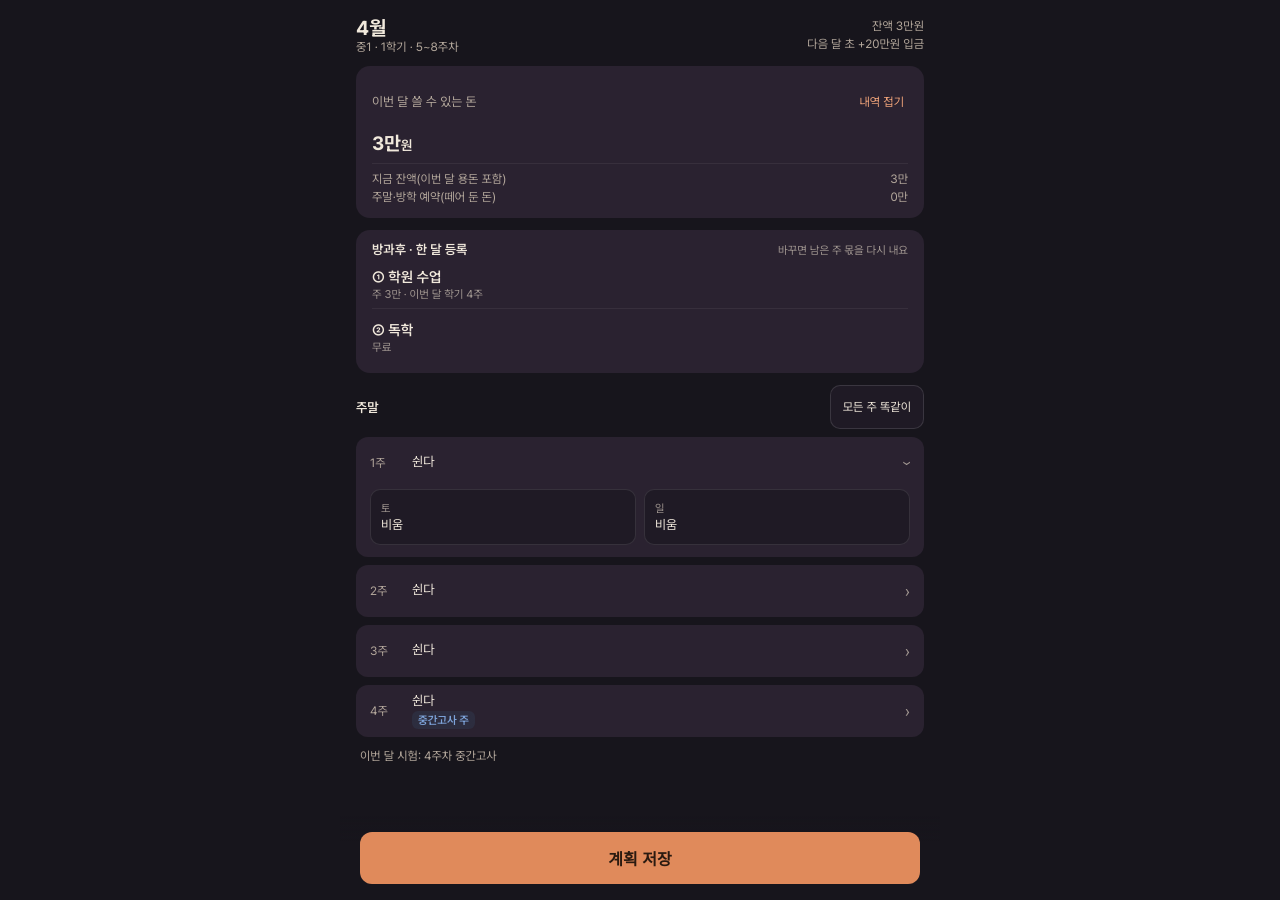
Test: 한 달 계획 화면 — 짜고, 예산이 움직이고, 시작하면 저장된다 › 계획이 잔액을 넘으면 시작을 막고 이유를 말한다
The image size is (1280, 900).
What coordinates should you click on to do the following:
click the button with test id "slot-5-0"
I would click on:
 (386, 508)
Its box is [370, 489, 636, 545].
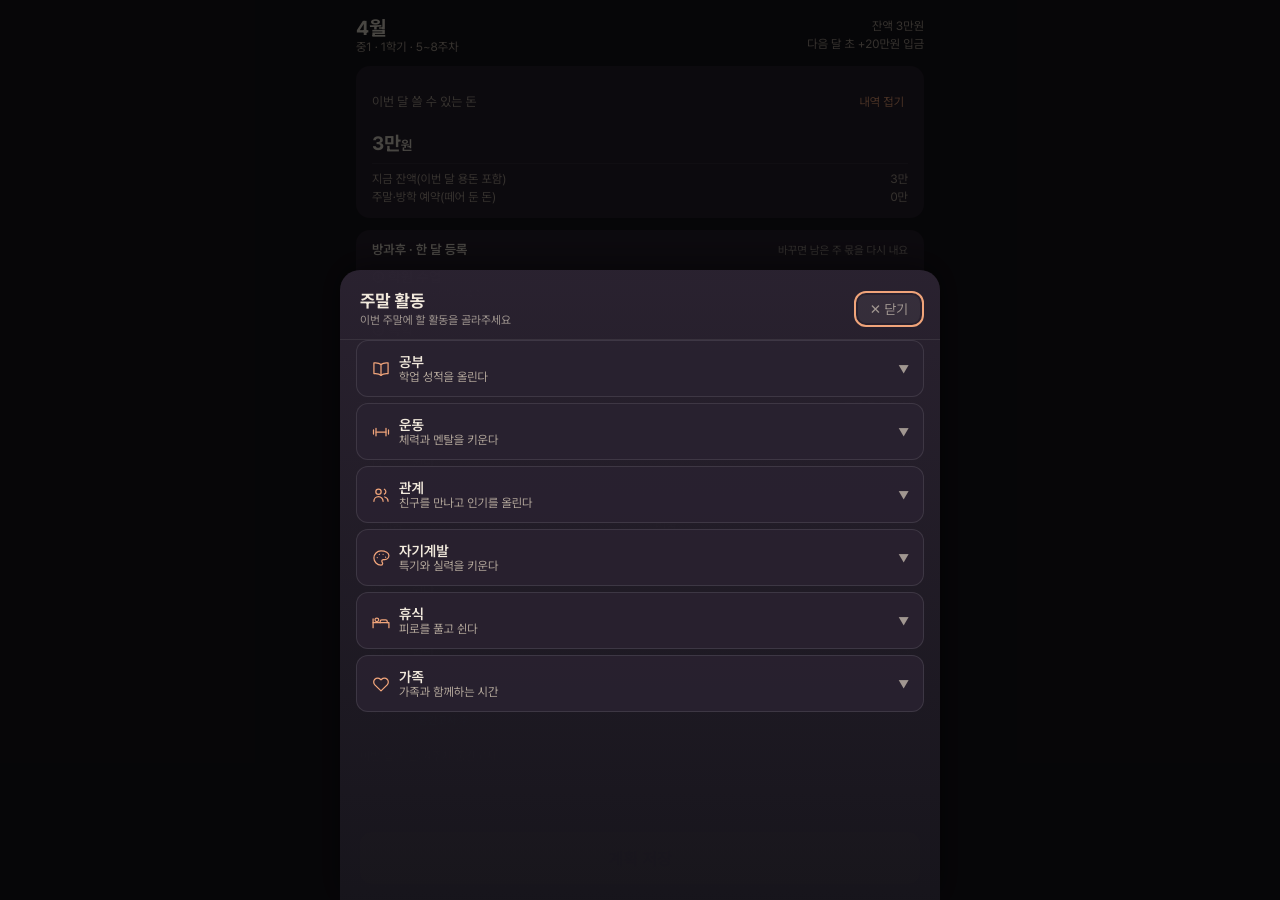
What coordinates should you click on to do the following:
click the button "자기계발 특기와 실력을 키운다 ▼"
I would click on:
 (424, 550)
Its box is [357, 530, 923, 585].
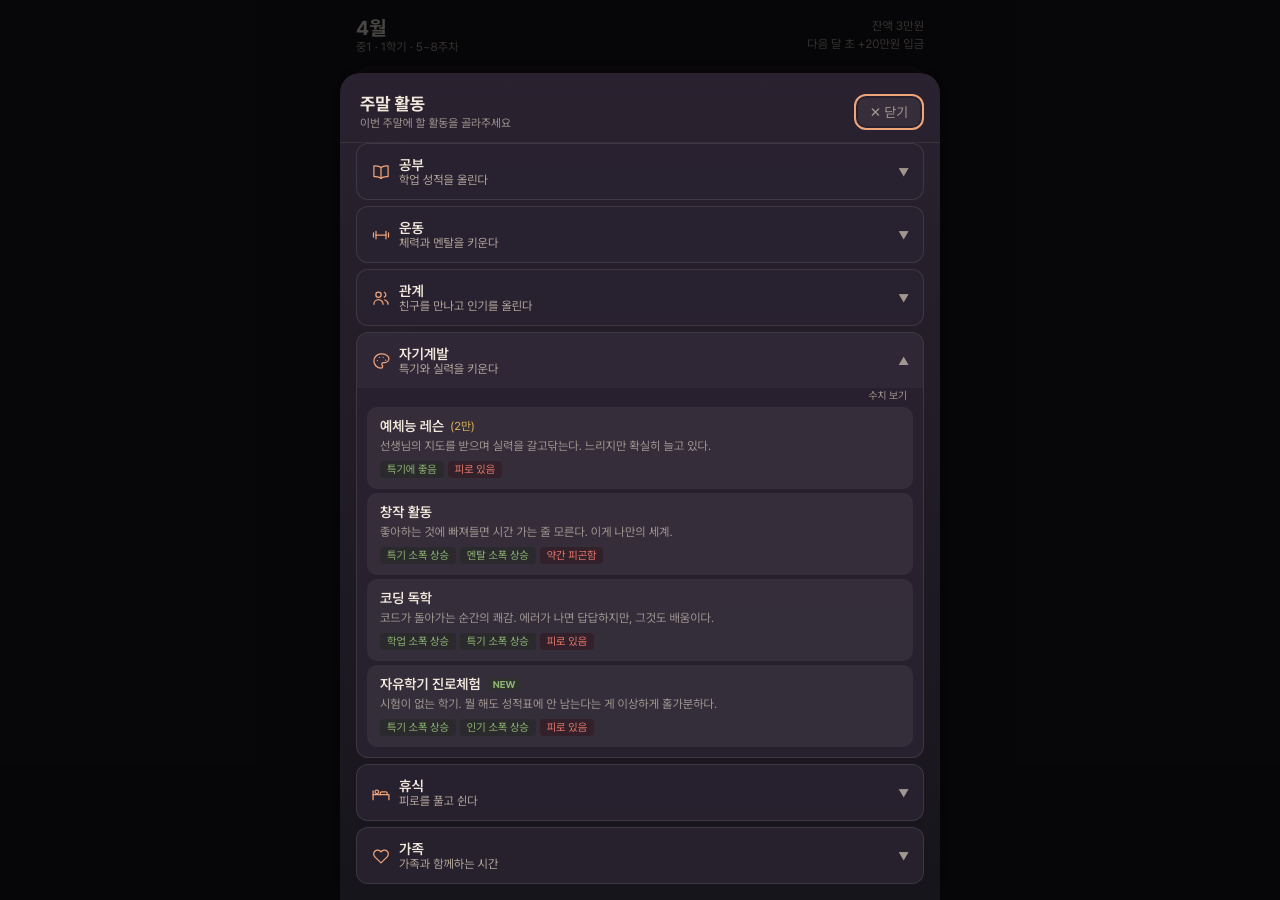
What coordinates should you click on to do the following:
click the button that starts with "예체능 레슨"
I would click on:
 (640, 448)
Its box is [367, 407, 913, 489].
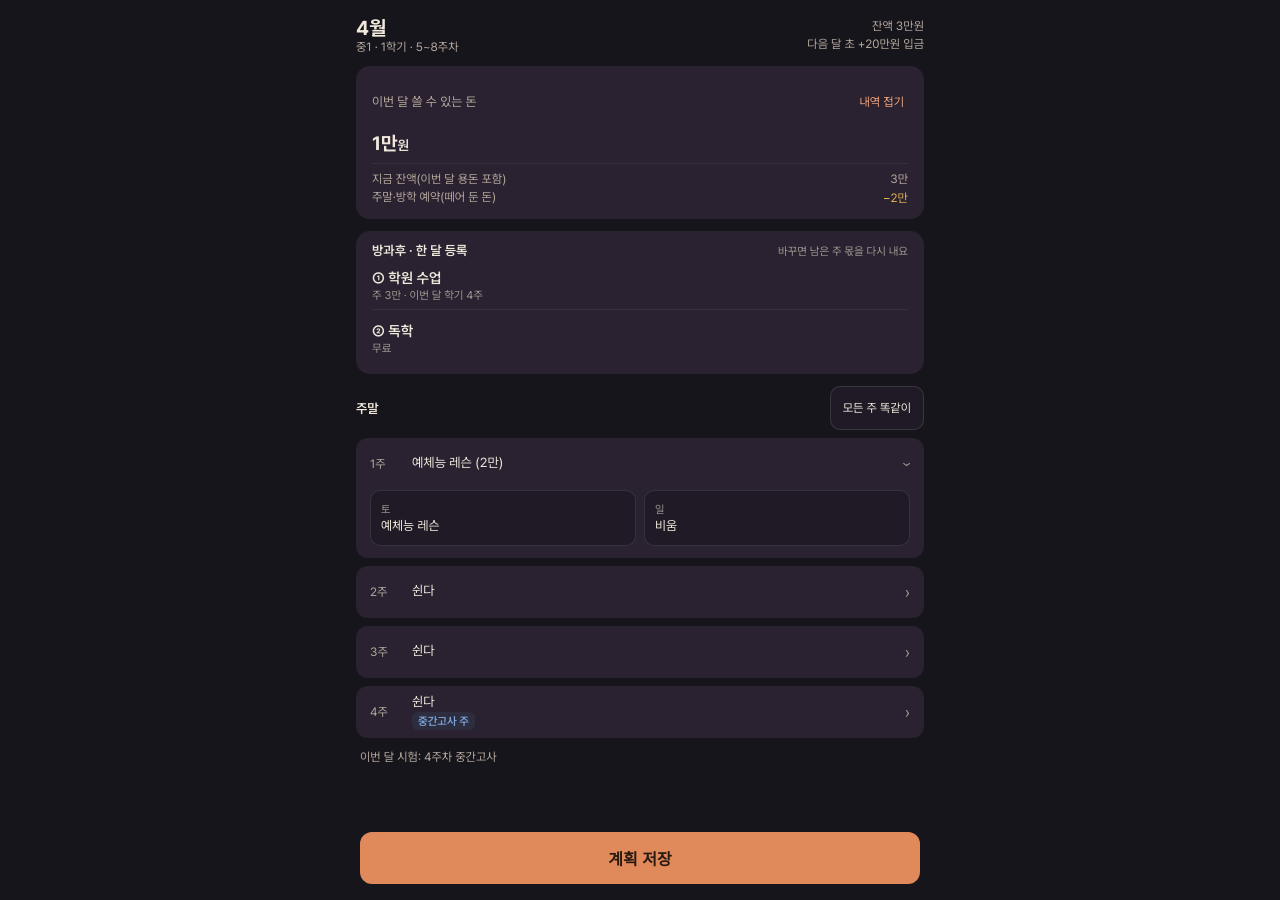
What coordinates should you click on to do the following:
click the button "모든 주 똑같이"
I would click on:
 (877, 408)
Its box is [830, 386, 924, 430].
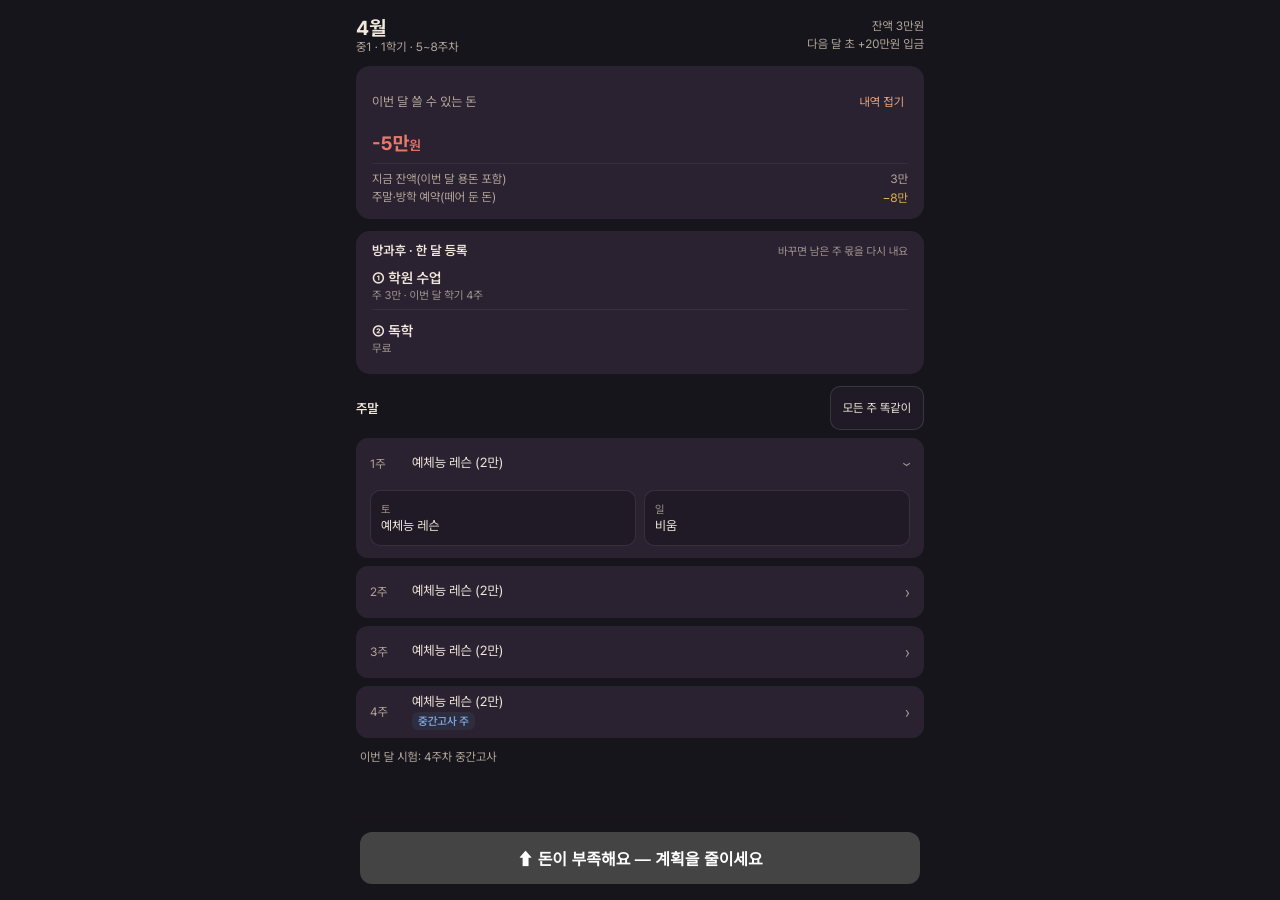
Now the button "⬆ 돈이 부족해요 — 계획을 줄이세요" is disabled, box [360, 832, 920, 884]
